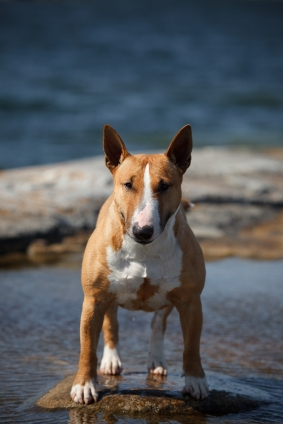bull_terrier: (69, 122, 209, 404)
